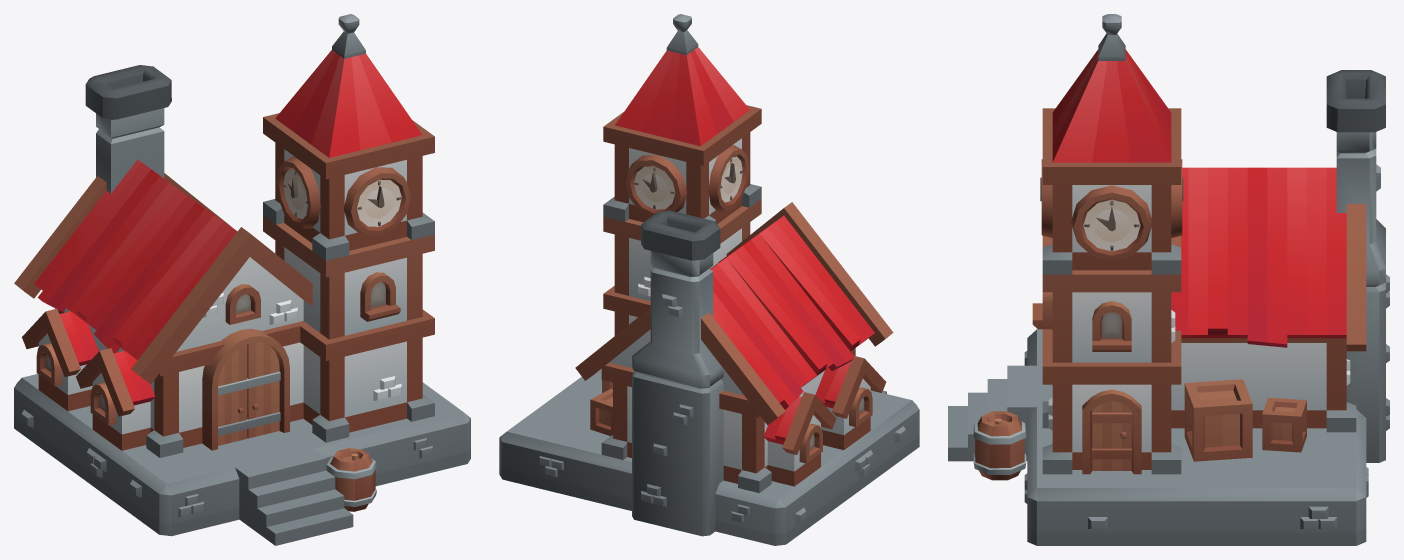
The model's file is village-large.glb.
3 views of the same model, side by side, from view 1: azimuth 30°, elevation 25°; view 2: azimuth 150°, elevation 25°; view 3: azimuth 270°, elevation 25° (orthographic). The views are drawn at different scales.
Visible parts, largest first — view 1: building_townhall_red; view 2: building_townhall_red; view 3: building_townhall_red.
Boxes of the visible parts, x1=… form: building_townhall_red: x1=14, y1=14, x2=470, y2=545; building_townhall_red: x1=499, y1=14, x2=919, y2=545; building_townhall_red: x1=948, y1=14, x2=1389, y2=545.
Bounding box in the file's own units: 1.43 × 1.89 × 1.56.
Materials: 1 (1 with a texture image).
